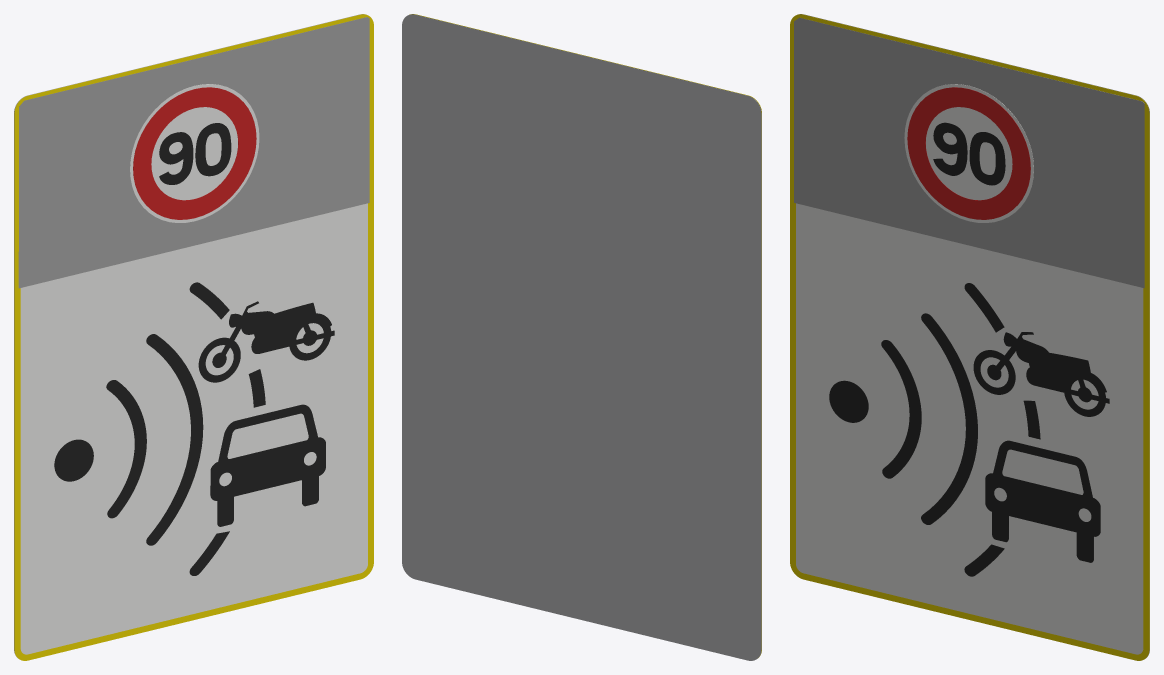
The picture shows the model from 3 angles, left to right: view 1: azimuth 30°, elevation 25°; view 2: azimuth 150°, elevation 25°; view 3: azimuth 330°, elevation 25°; orthographic projection.
Visible parts, largest first — view 1: SR3e_p01, SR3e_p02, SR3e_p03, SR3e_p00, SR3e_p05, SR3e_p04, SR3e_p06, SR3e_dos; view 2: SR3e_dos, SR3e_p00; view 3: SR3e_p01, SR3e_p02, SR3e_p03, SR3e_p00, SR3e_p05, SR3e_p04, SR3e_p06, SR3e_dos.
Boxes of the visible parts, bbox=[...] form: SR3e_p01: bbox=[20, 203, 367, 654]; SR3e_p02: bbox=[18, 17, 369, 288]; SR3e_p03: bbox=[54, 282, 334, 575]; SR3e_p00: bbox=[14, 14, 373, 660]; SR3e_p05: bbox=[133, 87, 256, 219]; SR3e_p04: bbox=[130, 84, 259, 222]; SR3e_p06: bbox=[159, 123, 231, 184]; SR3e_dos: bbox=[14, 14, 366, 657]; SR3e_dos: bbox=[402, 14, 761, 660]; SR3e_p00: bbox=[409, 14, 761, 657]; SR3e_p01: bbox=[796, 203, 1143, 654]; SR3e_p02: bbox=[794, 17, 1144, 288]; SR3e_p03: bbox=[829, 283, 1109, 576]; SR3e_p00: bbox=[790, 14, 1149, 660]; SR3e_p05: bbox=[907, 87, 1030, 219]; SR3e_p04: bbox=[904, 84, 1033, 222]; SR3e_p06: bbox=[933, 122, 1005, 185]; SR3e_dos: bbox=[797, 14, 1149, 657].
Size of the model in its own units: 0.7 by 1.05 by 0.0043.
